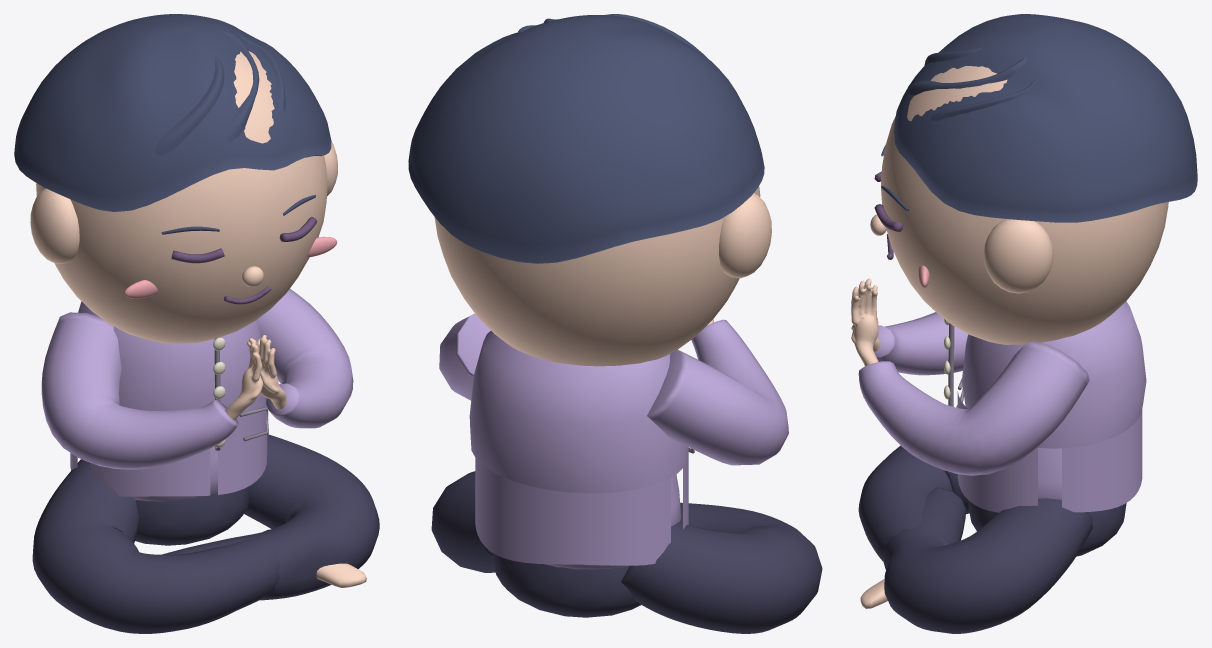
File: meditator_male_cross_prayer_p06b.glb
The picture shows the model from 3 angles, left to right: view 1: azimuth 30°, elevation 25°; view 2: azimuth 150°, elevation 25°; view 3: azimuth 270°, elevation 25°; orthographic projection. The views are drawn at different scales.
Visible parts, largest first — view 1: hair_neat_male_soft_sidepart_p06b_object, ao_ba_ba_pants_SeatRoot_object, ao_ba_ba_top_UpperBodyBreath_object, skin_rose_cream_UpperBodyBreath_object, eyes_mauve_UpperBodyBreath_object, skin_rose_cream_SeatRoot_ankle_instep_toes_p05e_object, skin_blush_UpperBodyBreath_object, ao_ba_ba_placket_UpperBodyBreath_object; view 2: hair_neat_male_soft_sidepart_p06b_object, ao_ba_ba_top_UpperBodyBreath_object, skin_rose_cream_UpperBodyBreath_object, ao_ba_ba_pants_SeatRoot_object; view 3: hair_neat_male_soft_sidepart_p06b_object, ao_ba_ba_top_UpperBodyBreath_object, skin_rose_cream_UpperBodyBreath_object, ao_ba_ba_pants_SeatRoot_object, ao_ba_ba_placket_UpperBodyBreath_object, eyes_mauve_UpperBodyBreath_object, skin_rose_cream_SeatRoot_ankle_instep_toes_p05e_object.
Boxes of the visible parts, left/top/right/bottom form: hair_neat_male_soft_sidepart_p06b_object: left=14, top=14, right=331, bottom=234; ao_ba_ba_pants_SeatRoot_object: left=32, top=434, right=379, bottom=633; ao_ba_ba_top_UpperBodyBreath_object: left=41, top=289, right=353, bottom=501; skin_rose_cream_UpperBodyBreath_object: left=30, top=51, right=337, bottom=420; eyes_mauve_UpperBodyBreath_object: left=171, top=217, right=317, bottom=304; skin_rose_cream_SeatRoot_ankle_instep_toes_p05e_object: left=316, top=563, right=366, bottom=587; skin_blush_UpperBodyBreath_object: left=124, top=236, right=337, bottom=298; ao_ba_ba_placket_UpperBodyBreath_object: left=214, top=337, right=268, bottom=450; hair_neat_male_soft_sidepart_p06b_object: left=408, top=14, right=764, bottom=263; ao_ba_ba_top_UpperBodyBreath_object: left=439, top=314, right=788, bottom=569; skin_rose_cream_UpperBodyBreath_object: left=434, top=186, right=771, bottom=366; ao_ba_ba_pants_SeatRoot_object: left=431, top=471, right=822, bottom=633; hair_neat_male_soft_sidepart_p06b_object: left=881, top=14, right=1197, bottom=222; ao_ba_ba_top_UpperBodyBreath_object: left=858, top=301, right=1146, bottom=512; skin_rose_cream_UpperBodyBreath_object: left=851, top=66, right=1168, bottom=366; ao_ba_ba_pants_SeatRoot_object: left=858, top=445, right=1126, bottom=633; ao_ba_ba_placket_UpperBodyBreath_object: left=948, top=323, right=963, bottom=407; eyes_mauve_UpperBodyBreath_object: left=874, top=171, right=902, bottom=259; skin_rose_cream_SeatRoot_ankle_instep_toes_p05e_object: left=860, top=579, right=887, bottom=608.
Bounding box in the file's own units: 0.7292 × 1.16 × 0.672.
